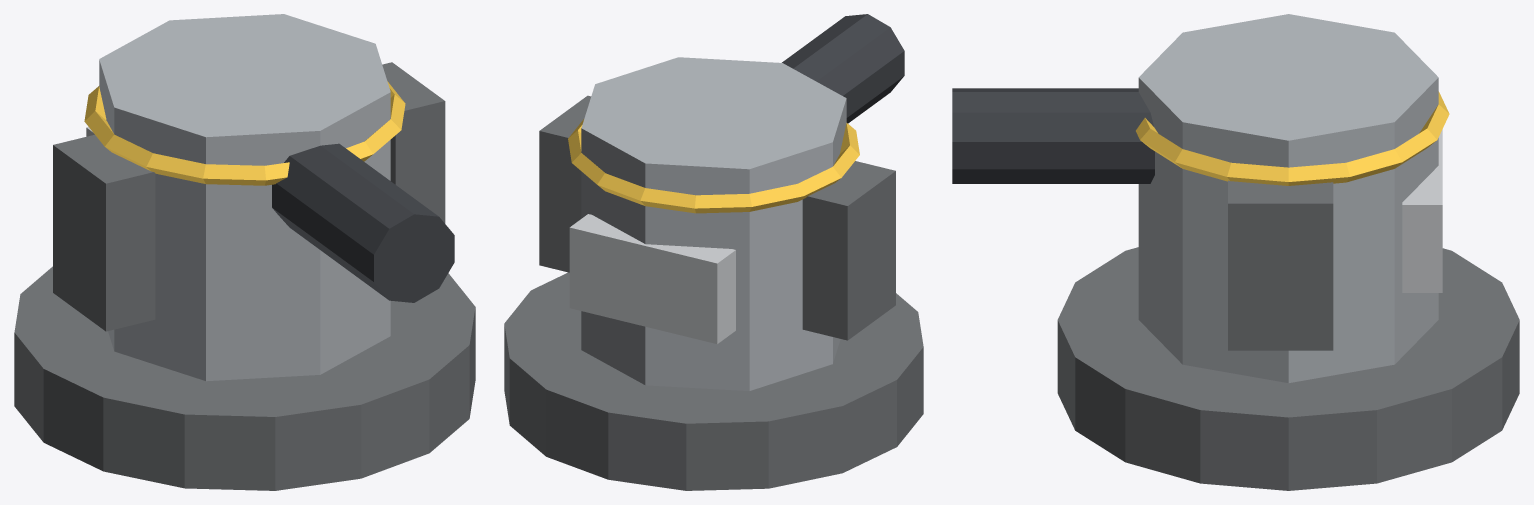
File: TD_HeavyTower_T1.fbx
3 views of the same model, side by side, from view 1: azimuth 30°, elevation 25°; view 2: azimuth 150°, elevation 25°; view 3: azimuth 270°, elevation 25° (orthographic). The views are drawn at different scales.
Visible parts, largest first — view 1: TD_HeavyTower_T1_Body, TD_HeavyTower_T1_Base, TD_HeavyTower_T1_MainBarrel, TD_HeavyTower_T1_ArmorPlate_Left, TD_HeavyTower_T1_ArmorPlate_Right, TD_HeavyTower_T1_GoldReinforcementRing; view 2: TD_HeavyTower_T1_Body, TD_HeavyTower_T1_Base, TD_HeavyTower_T1_SideMetalPlate_Back, TD_HeavyTower_T1_ArmorPlate_Left, TD_HeavyTower_T1_MainBarrel, TD_HeavyTower_T1_GoldReinforcementRing, TD_HeavyTower_T1_ArmorPlate_Right; view 3: TD_HeavyTower_T1_Body, TD_HeavyTower_T1_Base, TD_HeavyTower_T1_MainBarrel, TD_HeavyTower_T1_ArmorPlate_Right, TD_HeavyTower_T1_GoldReinforcementRing, TD_HeavyTower_T1_SideMetalPlate_Back.
Boxes of the visible parts, bbox=[...] form: TD_HeavyTower_T1_Body: bbox=[99, 14, 390, 381]; TD_HeavyTower_T1_Base: bbox=[14, 266, 475, 490]; TD_HeavyTower_T1_MainBarrel: bbox=[272, 143, 454, 302]; TD_HeavyTower_T1_ArmorPlate_Left: bbox=[53, 134, 155, 331]; TD_HeavyTower_T1_ArmorPlate_Right: bbox=[382, 62, 445, 223]; TD_HeavyTower_T1_GoldReinforcementRing: bbox=[84, 81, 405, 185]; TD_HeavyTower_T1_Body: bbox=[581, 57, 846, 391]; TD_HeavyTower_T1_Base: bbox=[504, 272, 923, 490]; TD_HeavyTower_T1_SideMetalPlate_Back: bbox=[569, 214, 735, 344]; TD_HeavyTower_T1_ArmorPlate_Left: bbox=[802, 161, 895, 340]; TD_HeavyTower_T1_MainBarrel: bbox=[782, 14, 904, 123]; TD_HeavyTower_T1_GoldReinforcementRing: bbox=[568, 119, 859, 213]; TD_HeavyTower_T1_ArmorPlate_Right: bbox=[539, 95, 591, 272]; TD_HeavyTower_T1_Body: bbox=[1138, 14, 1438, 383]; TD_HeavyTower_T1_Base: bbox=[1057, 247, 1519, 490]; TD_HeavyTower_T1_MainBarrel: bbox=[952, 88, 1154, 183]; TD_HeavyTower_T1_ArmorPlate_Right: bbox=[1228, 180, 1333, 350]; TD_HeavyTower_T1_GoldReinforcementRing: bbox=[1136, 91, 1449, 185]; TD_HeavyTower_T1_SideMetalPlate_Back: bbox=[1402, 129, 1442, 292].
Size of the model in its own units: 1.14 by 0.86 by 1.4.
